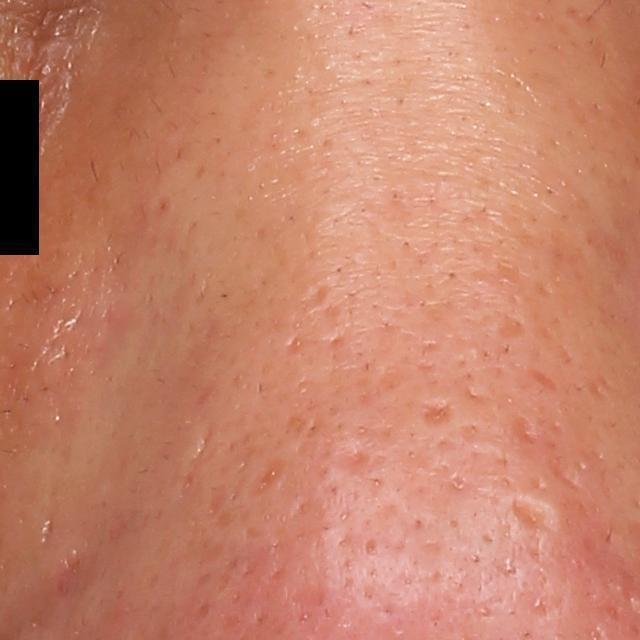atrophic_scar: (174, 416, 215, 498), (511, 502, 557, 536), (524, 364, 564, 397), (255, 460, 283, 498), (307, 278, 338, 311), (338, 446, 376, 472), (420, 403, 454, 431), (498, 313, 528, 342), (516, 415, 542, 446), (282, 337, 306, 360)
comedo: (362, 534, 380, 558)
